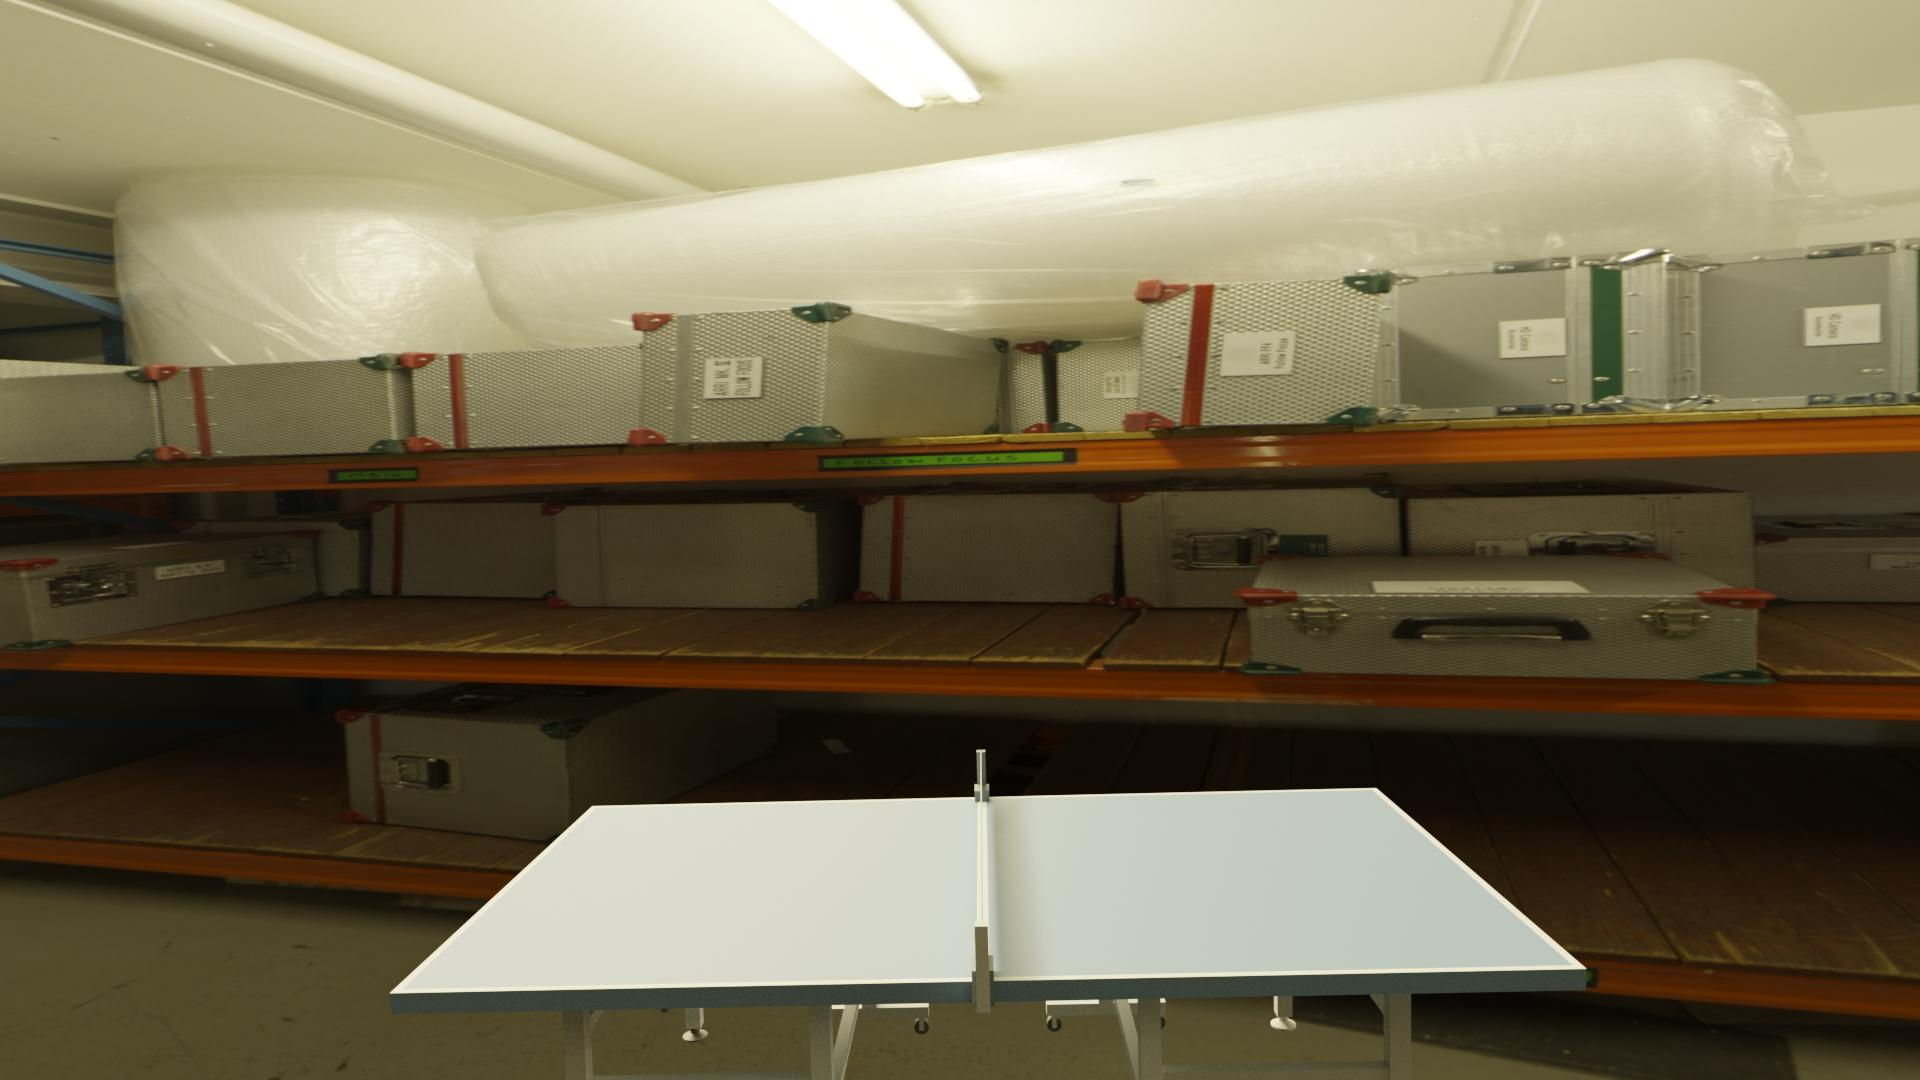table: (402, 790, 1573, 989)
